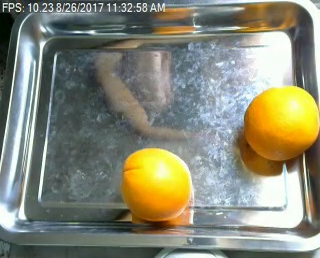Orange: (242, 85, 319, 160), (122, 146, 194, 220)
